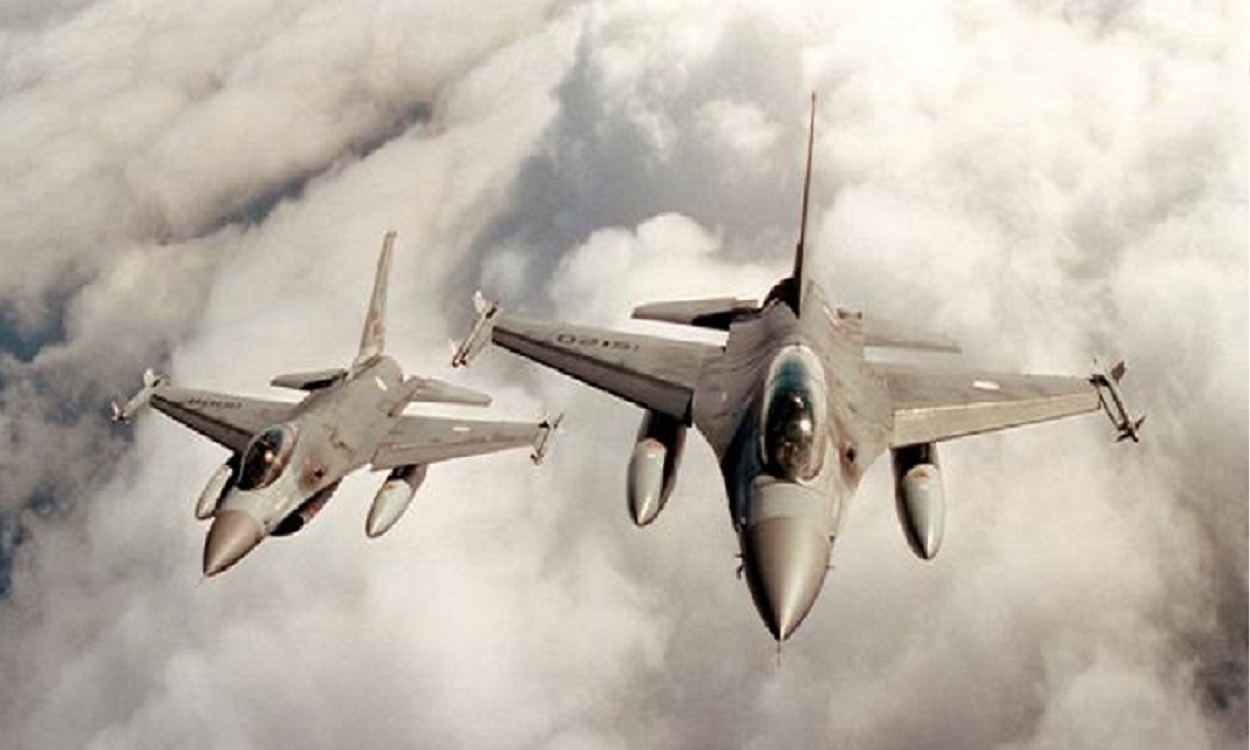airplane: (457, 91, 1149, 678), (110, 226, 564, 582)
